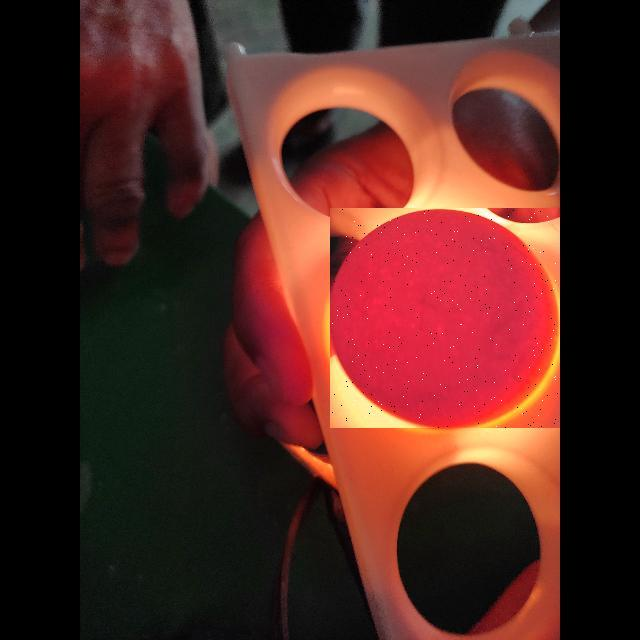Infertile: (330, 208, 560, 428)
